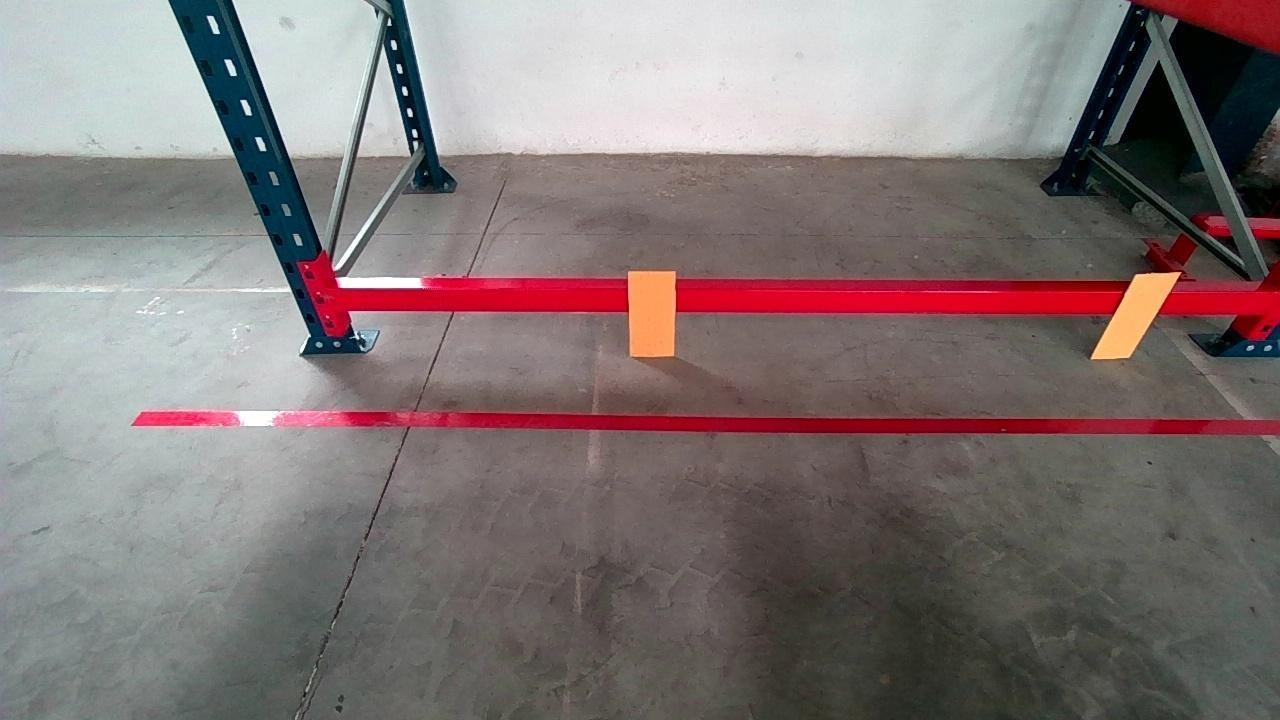h_rack: (340, 287, 1280, 315)
orange_strip: (1091, 272, 1179, 358), (628, 271, 677, 355)
red_line: (136, 410, 1280, 440)
